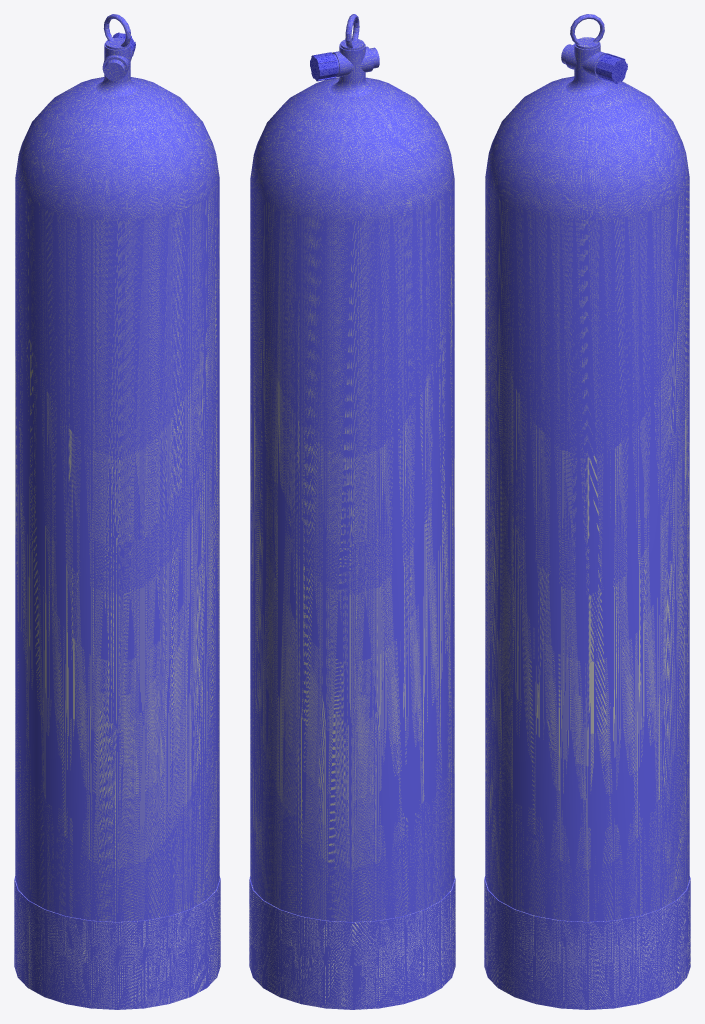
3 renders of one model, left to right at view 1: azimuth 30°, elevation 25°; view 2: azimuth 150°, elevation 25°; view 3: azimuth 270°, elevation 25°, orthographic.
Parts seen in each view (by area): view 1: mesh1_mesh1-geometry; view 2: mesh1_mesh1-geometry; view 3: mesh1_mesh1-geometry.
Part boxes in pixels (box(x1,y1,x2,y2)): mesh1_mesh1-geometry: box(14, 14, 220, 1009); mesh1_mesh1-geometry: box(249, 14, 455, 1009); mesh1_mesh1-geometry: box(484, 14, 690, 1009).
Bounding box in the file's own units: 0.1894 × 0.9635 × 0.1894.
